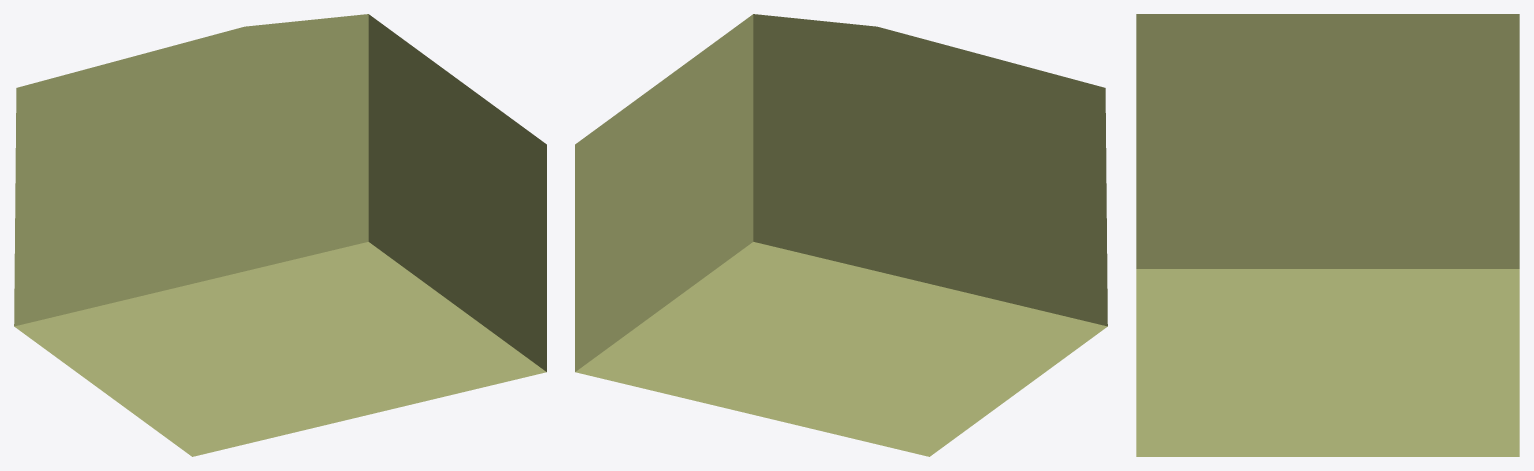
3 renders of one model, left to right at view 1: azimuth 30°, elevation 25°; view 2: azimuth 150°, elevation 25°; view 3: azimuth 270°, elevation 25°, orthographic. The views are drawn at different scales.
Visible parts, largest first — view 1: 0_1_1_3_3_1_0_2_2_1_3; view 2: 0_1_1_3_3_1_0_2_2_1_3; view 3: 0_1_1_3_3_1_0_2_2_1_3.
Part boxes in pixels (left/top/right/bottom): 0_1_1_3_3_1_0_2_2_1_3: left=14, top=14, right=546, bottom=456; 0_1_1_3_3_1_0_2_2_1_3: left=575, top=14, right=1107, bottom=456; 0_1_1_3_3_1_0_2_2_1_3: left=1136, top=14, right=1519, bottom=456.
Size of the model in its own units: 6.89 by 4.56 by 6.
